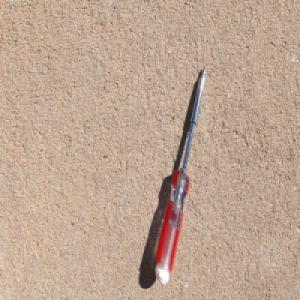Screwdriver: (152, 63, 206, 287)
